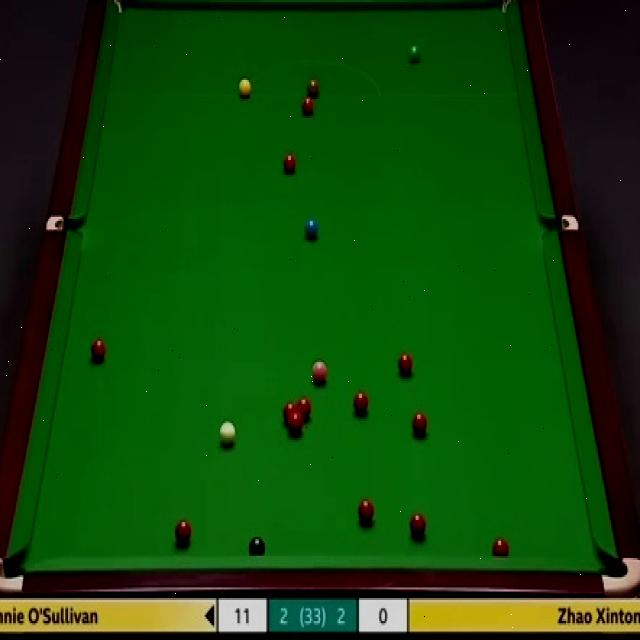black-ball: (248, 537, 266, 556)
blue-ball: (304, 216, 319, 242)
brown-ball: (305, 76, 320, 100)
green-ball: (406, 44, 422, 64)
pink-ball: (312, 356, 328, 385)
red-ball: (397, 350, 414, 380), (408, 512, 426, 540), (89, 337, 107, 365), (175, 518, 192, 546), (358, 498, 374, 526), (411, 409, 427, 436), (352, 390, 368, 417), (281, 150, 298, 175), (297, 398, 312, 423), (492, 537, 510, 557), (289, 414, 303, 436), (283, 402, 297, 423), (301, 96, 314, 118)
white-ball: (218, 418, 237, 453)
yellow-ball: (238, 77, 252, 98)
